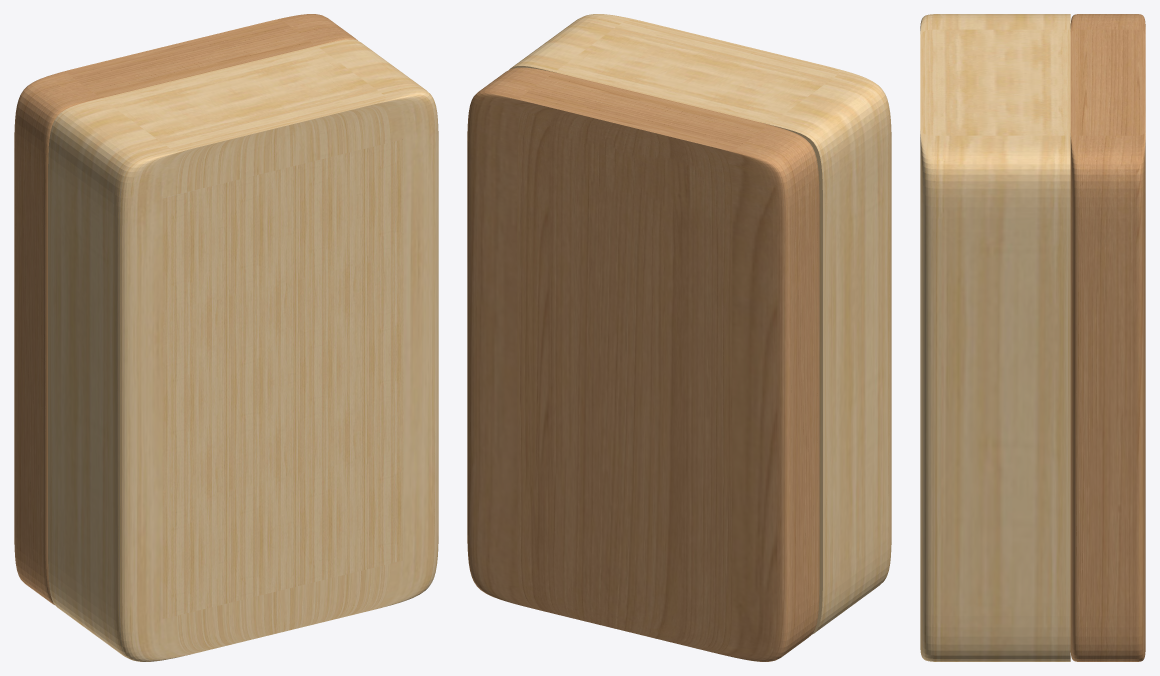
The model's file is TileModel.fbx.
The picture shows the model from 3 angles, left to right: view 1: azimuth 30°, elevation 25°; view 2: azimuth 150°, elevation 25°; view 3: azimuth 270°, elevation 25°; orthographic projection.
Visible parts, largest first — view 1: Cube.001; view 2: Cube.001; view 3: Cube.001.
Boxes of the visible parts, box(x1,y1,x2,y2) form: Cube.001: box(14, 14, 438, 661); Cube.001: box(467, 14, 891, 661); Cube.001: box(920, 14, 1145, 661).
Bounding box in the file's own units: 200 × 300 × 120.
